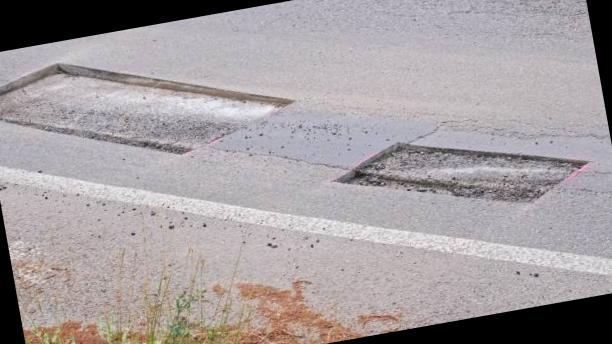faded_road_lines: (0, 166, 612, 275)
pothole: (0, 63, 291, 153), (336, 142, 588, 201)
